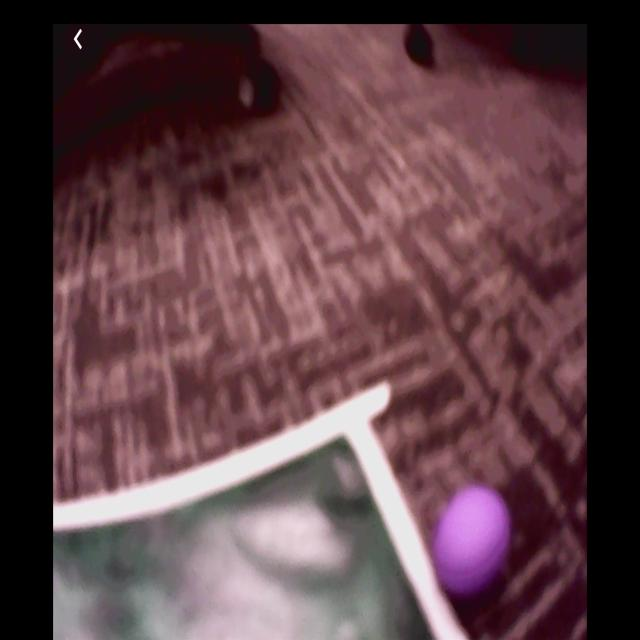ball: (431, 481, 512, 600)
